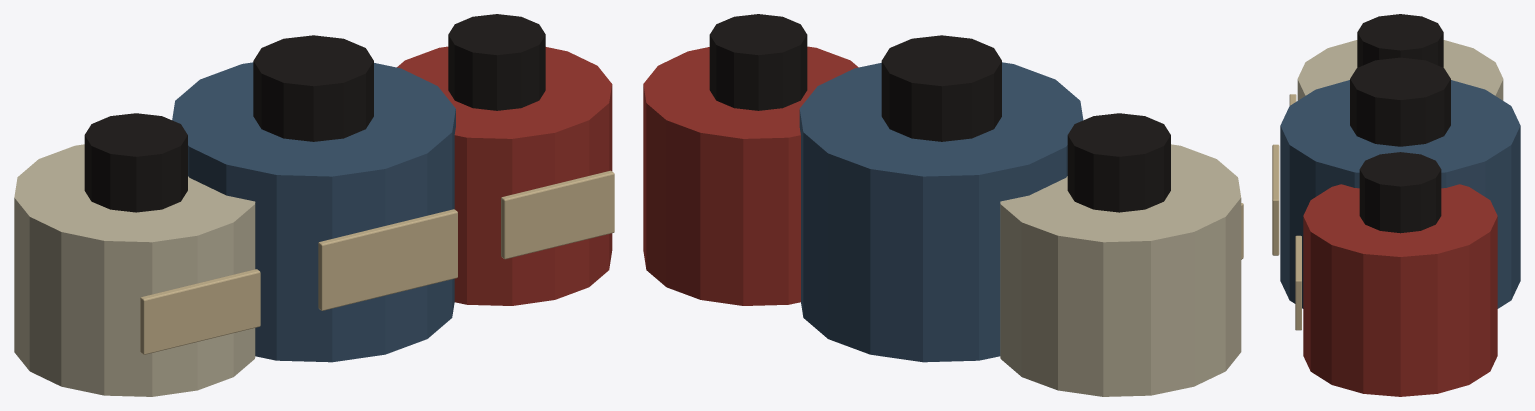
Rendered from basement-detergents.glb.
3 renders of one model, left to right at view 1: azimuth 30°, elevation 25°; view 2: azimuth 150°, elevation 25°; view 3: azimuth 270°, elevation 25°, orthographic. The views are drawn at different scales.
Visible parts, largest first — view 1: SM_Prop_DetergentBottle_1, SM_Prop_DetergentBottle_0, SM_lonely_basement_detergents_Rubber_SootBlack, SM_Prop_DetergentBottle_2, SM_lonely_basement_detergents_Paper_Label; view 2: SM_Prop_DetergentBottle_1, SM_Prop_DetergentBottle_0, SM_Prop_DetergentBottle_2, SM_lonely_basement_detergents_Rubber_SootBlack; view 3: SM_Prop_DetergentBottle_2, SM_Prop_DetergentBottle_1, SM_lonely_basement_detergents_Rubber_SootBlack, SM_Prop_DetergentBottle_0, SM_lonely_basement_detergents_Paper_Label.
Part boxes in pixels (left/top/right/bottom): SM_Prop_DetergentBottle_1: left=172, top=62, right=455, bottom=362; SM_Prop_DetergentBottle_0: left=14, top=144, right=255, bottom=396; SM_lonely_basement_detergents_Rubber_SootBlack: left=84, top=14, right=545, bottom=212; SM_Prop_DetergentBottle_2: left=397, top=46, right=612, bottom=305; SM_lonely_basement_detergents_Paper_Label: left=140, top=170, right=614, bottom=354; SM_Prop_DetergentBottle_1: left=799, top=62, right=1083, bottom=362; SM_Prop_DetergentBottle_0: left=1000, top=144, right=1241, bottom=396; SM_Prop_DetergentBottle_2: left=643, top=46, right=858, bottom=305; SM_lonely_basement_detergents_Rubber_SootBlack: left=709, top=14, right=1170, bottom=212; SM_Prop_DetergentBottle_2: left=1303, top=184, right=1497, bottom=396; SM_Prop_DetergentBottle_1: left=1280, top=80, right=1520, bottom=308; SM_lonely_basement_detergents_Rubber_SootBlack: left=1350, top=14, right=1450, bottom=233; SM_Prop_DetergentBottle_0: left=1297, top=40, right=1503, bottom=100; SM_lonely_basement_detergents_Paper_Label: left=1272, top=94, right=1301, bottom=330.
Size of the model in its own units: 0.96 by 0.39 by 0.434.
